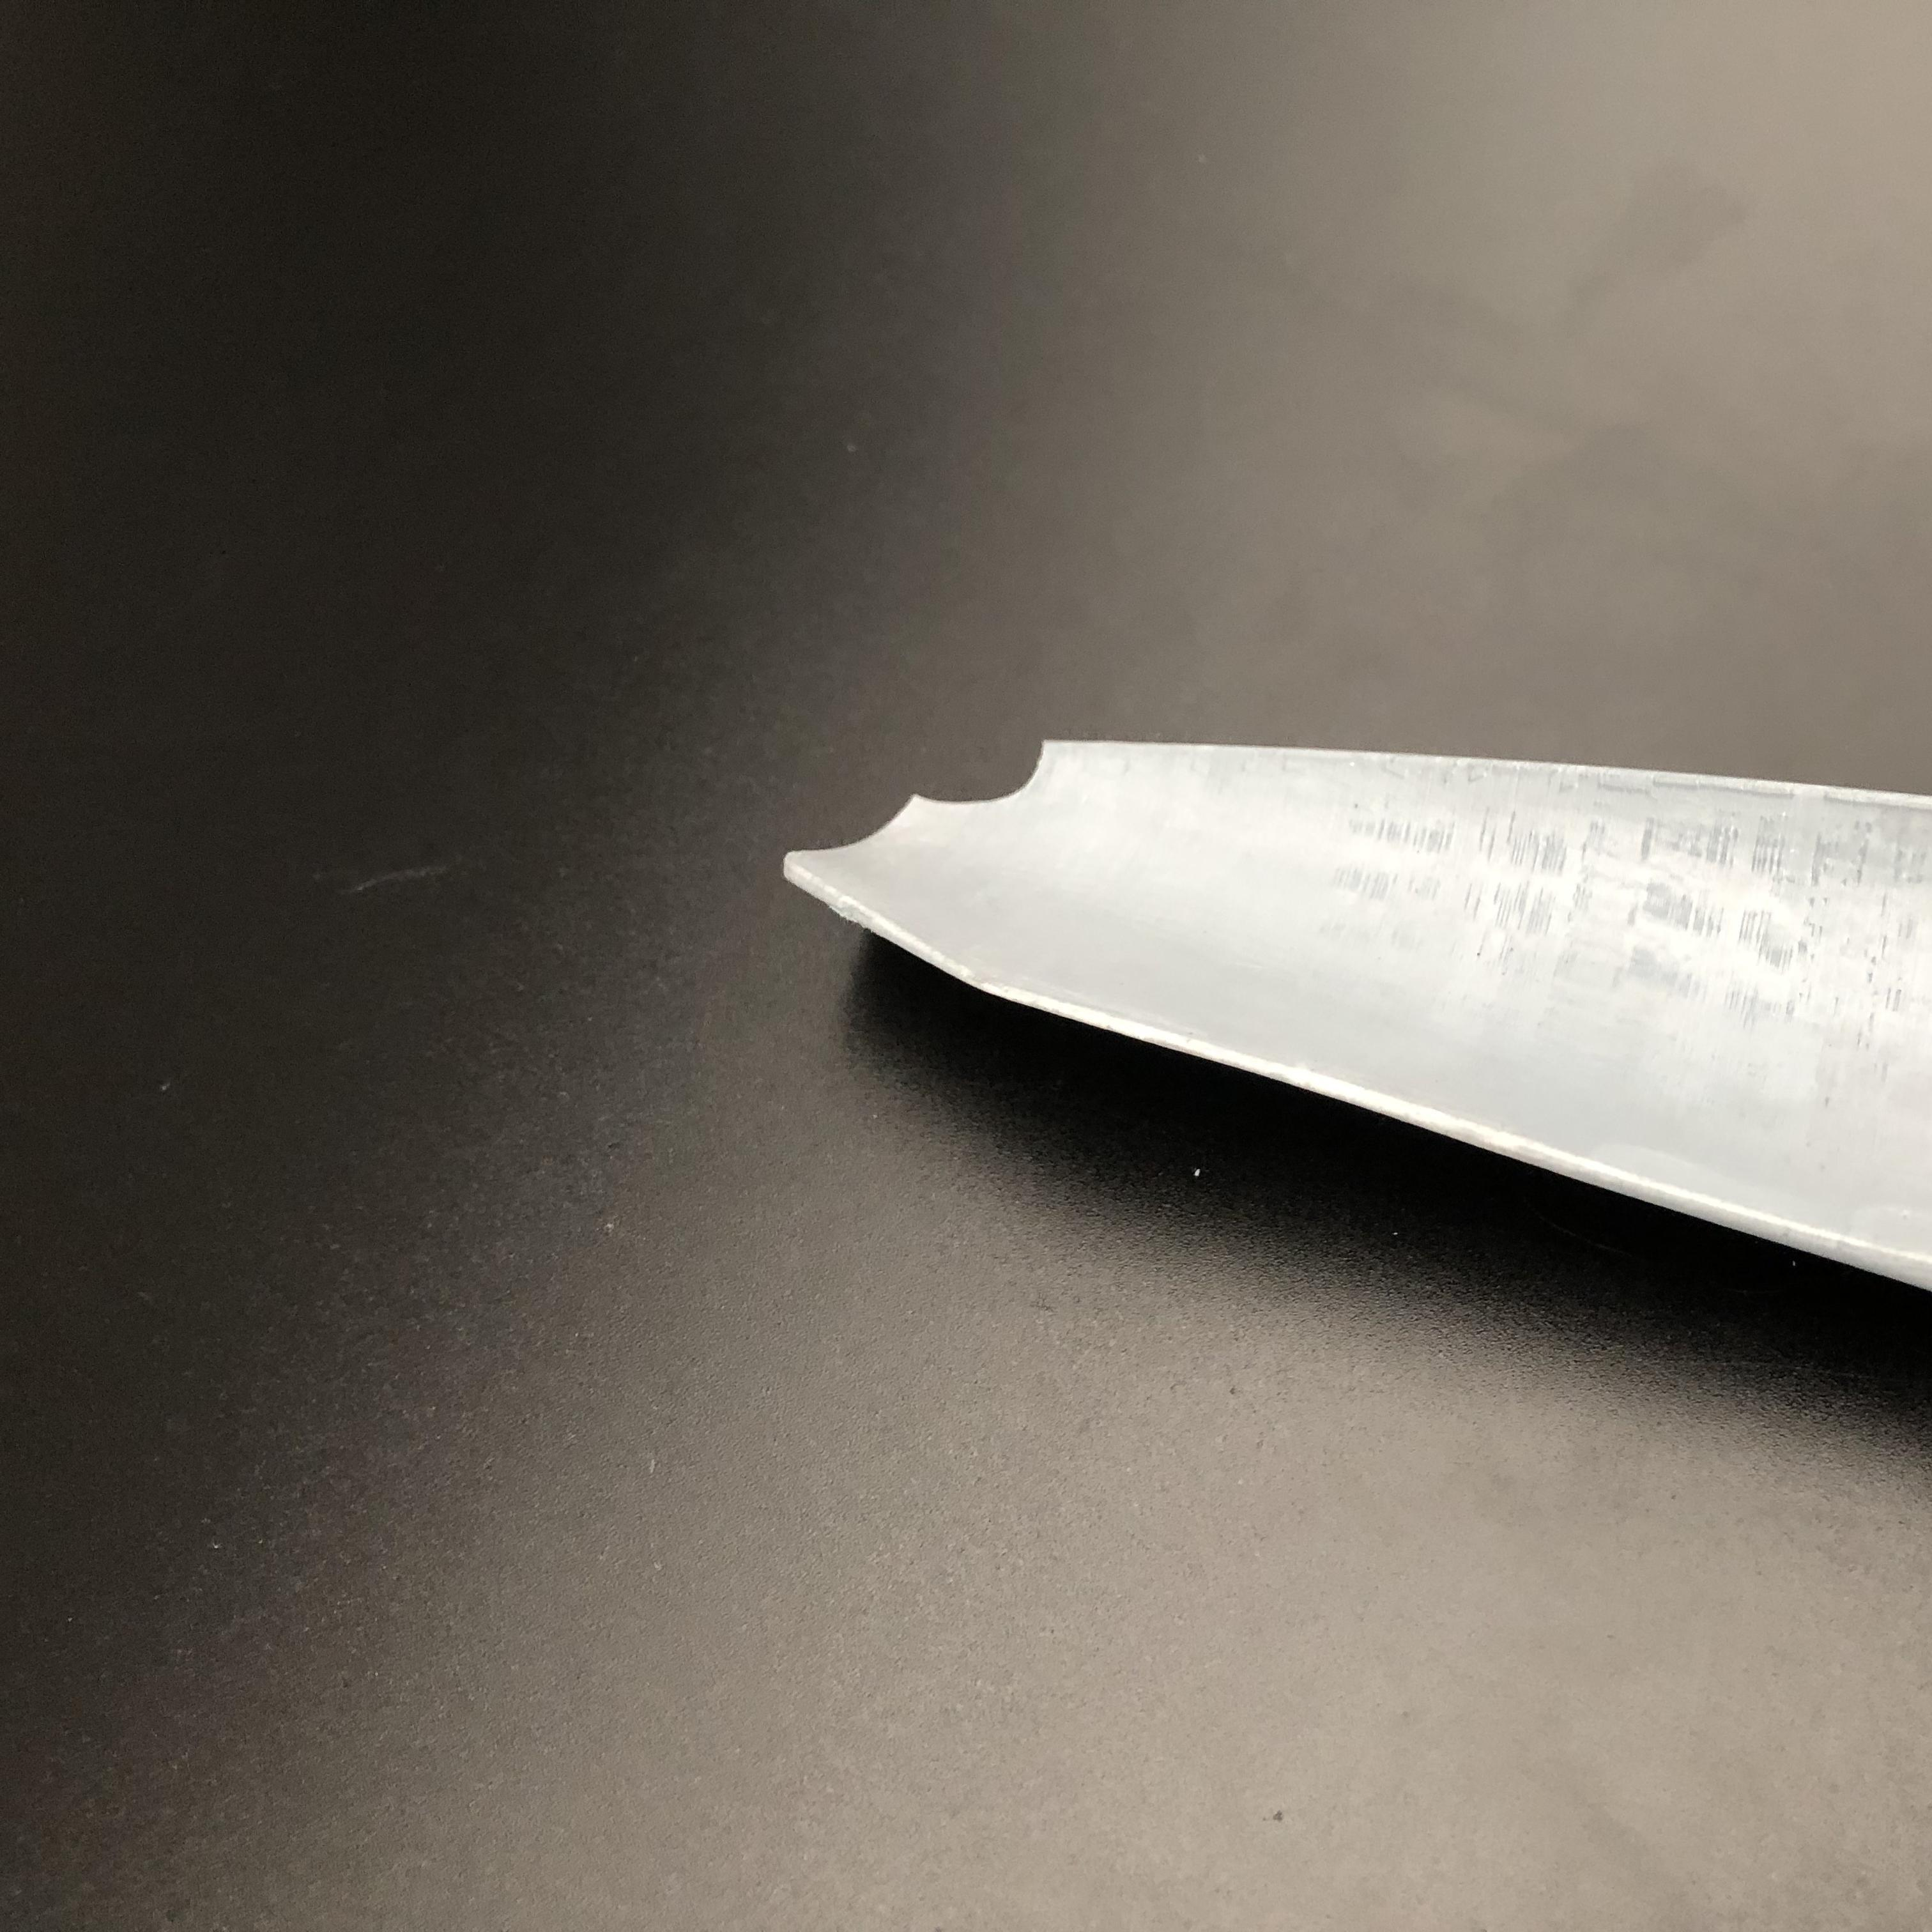fracture: (793, 731, 1081, 862)
